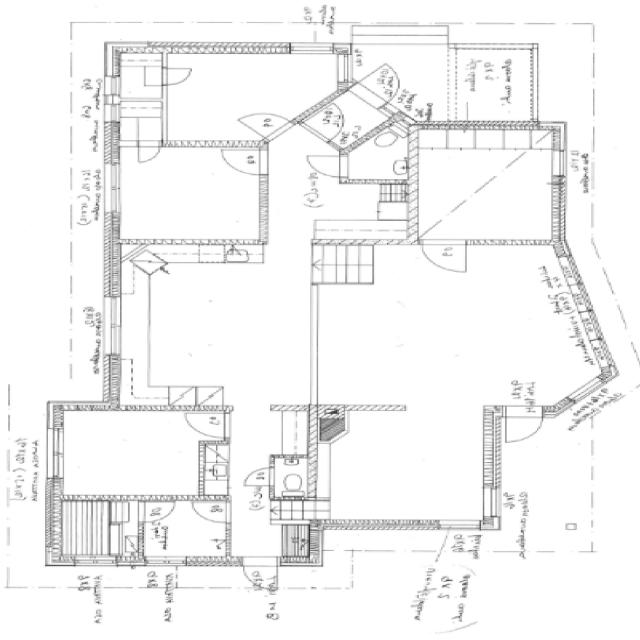door: (346, 62, 415, 109), (298, 104, 357, 144), (242, 107, 294, 142), (422, 240, 467, 275), (243, 553, 279, 589), (506, 406, 542, 442), (218, 150, 267, 176), (186, 413, 231, 439), (194, 503, 233, 524), (309, 156, 348, 176), (240, 466, 277, 486), (138, 503, 174, 522), (162, 68, 193, 85), (138, 140, 160, 161)
